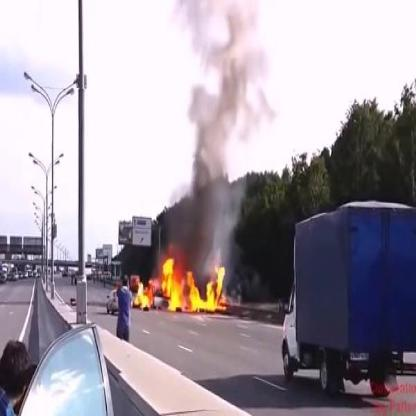fire: (160, 250, 228, 315), (132, 275, 151, 309)
